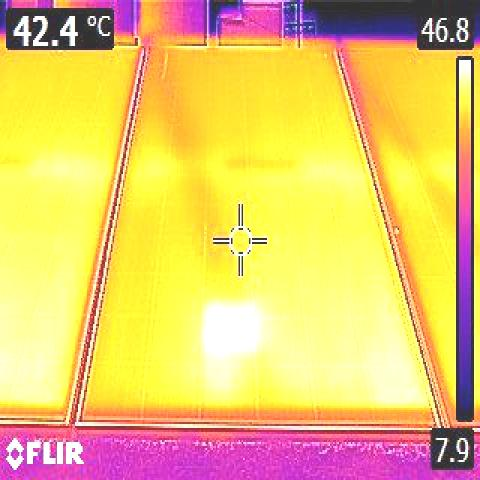fault: (207, 303, 251, 350)
